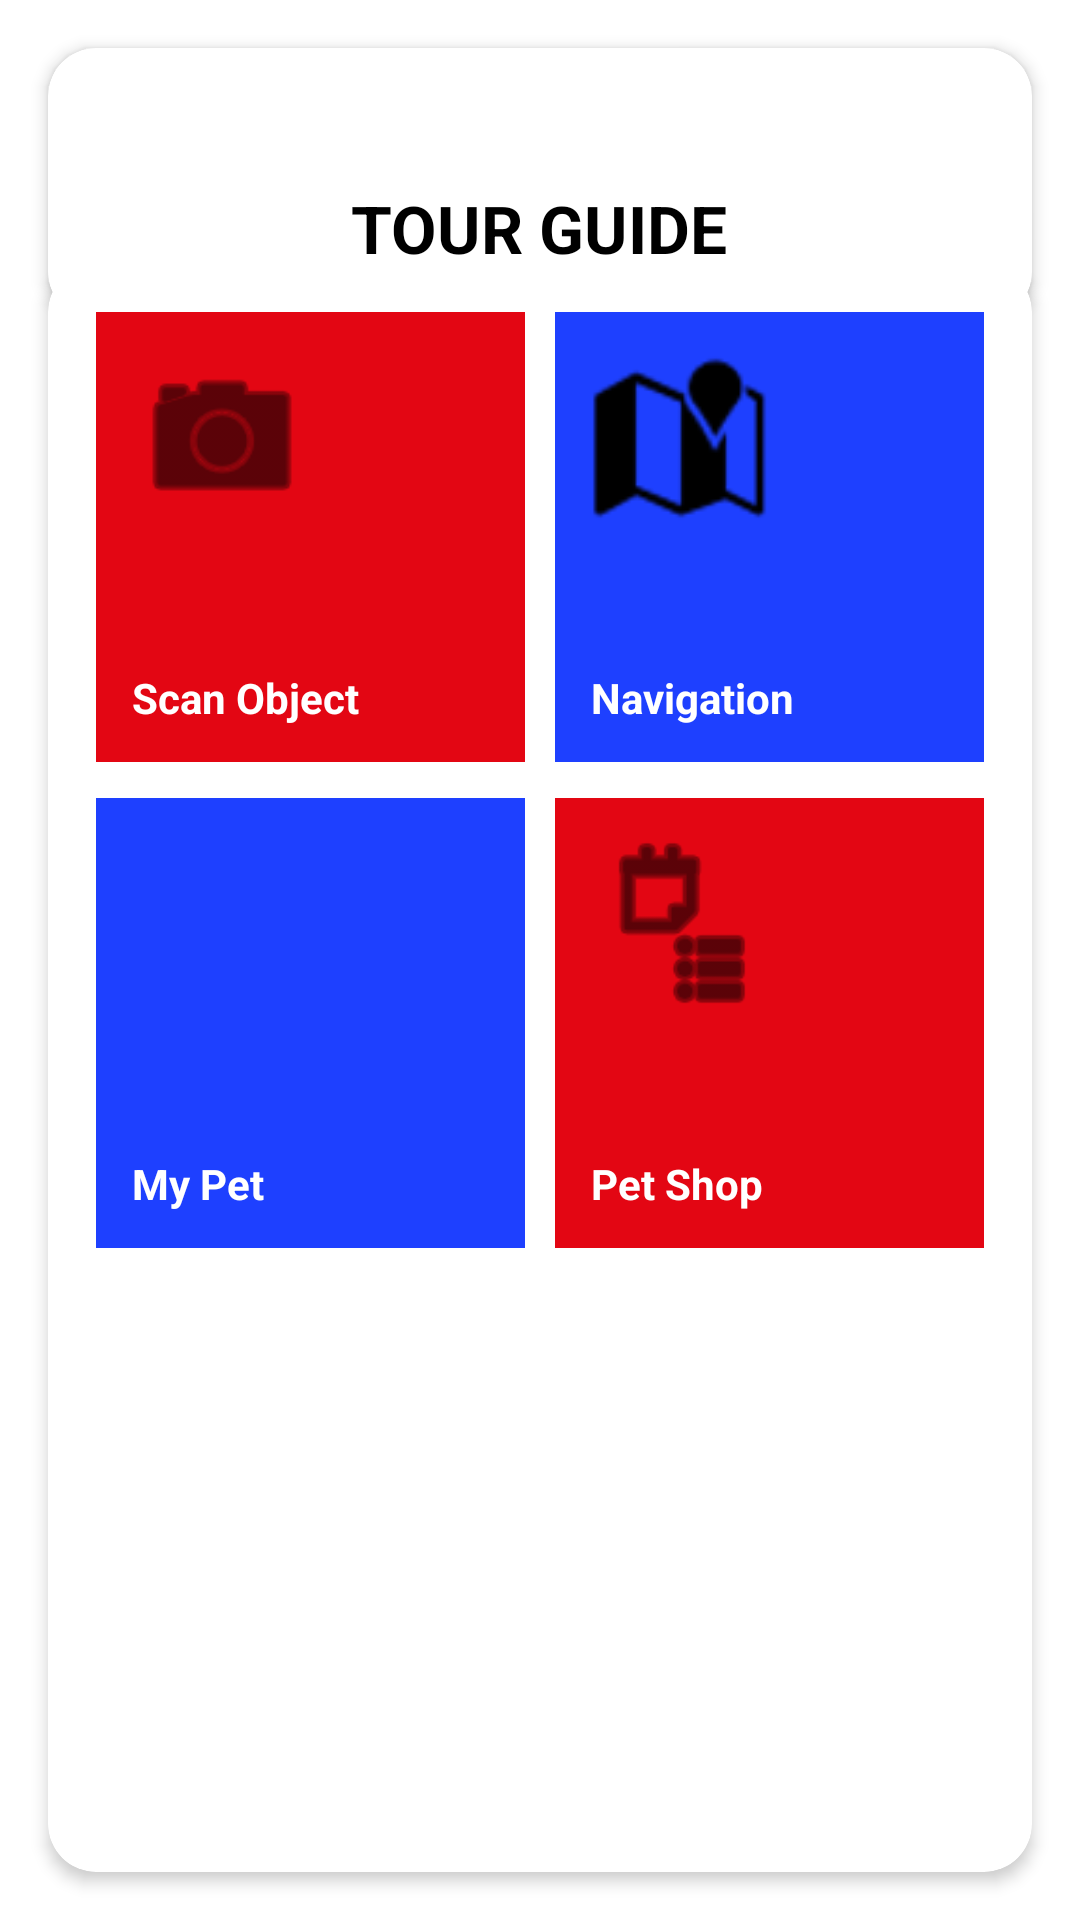

Where to tap for icons on this 1080×1920 app screen, as point (x, y):
agenda: point (682, 923)
camera: point (222, 435)
map: point (679, 438)
